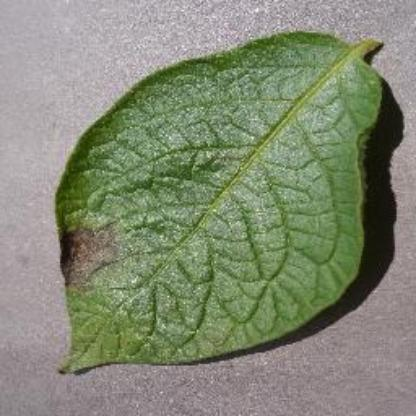Late-Blight: (33, 26, 407, 388)
